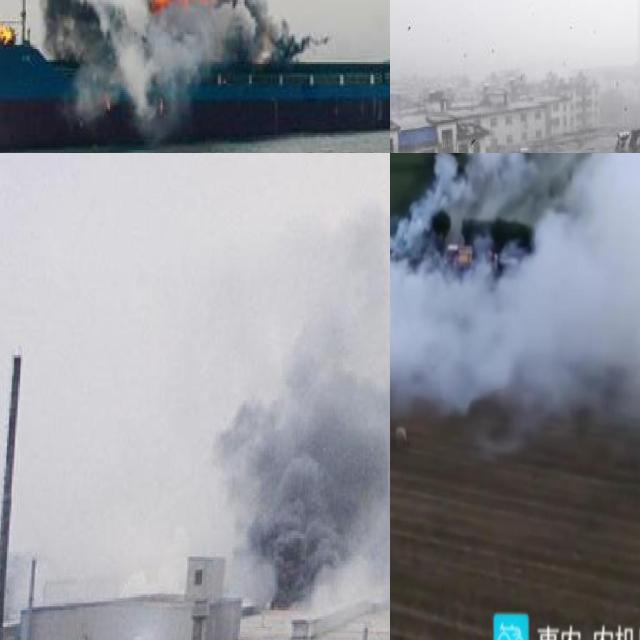smoke: (201, 197, 390, 608), (390, 153, 640, 433), (0, 0, 289, 122), (463, 0, 555, 55), (528, 0, 618, 52), (390, 0, 454, 66)
